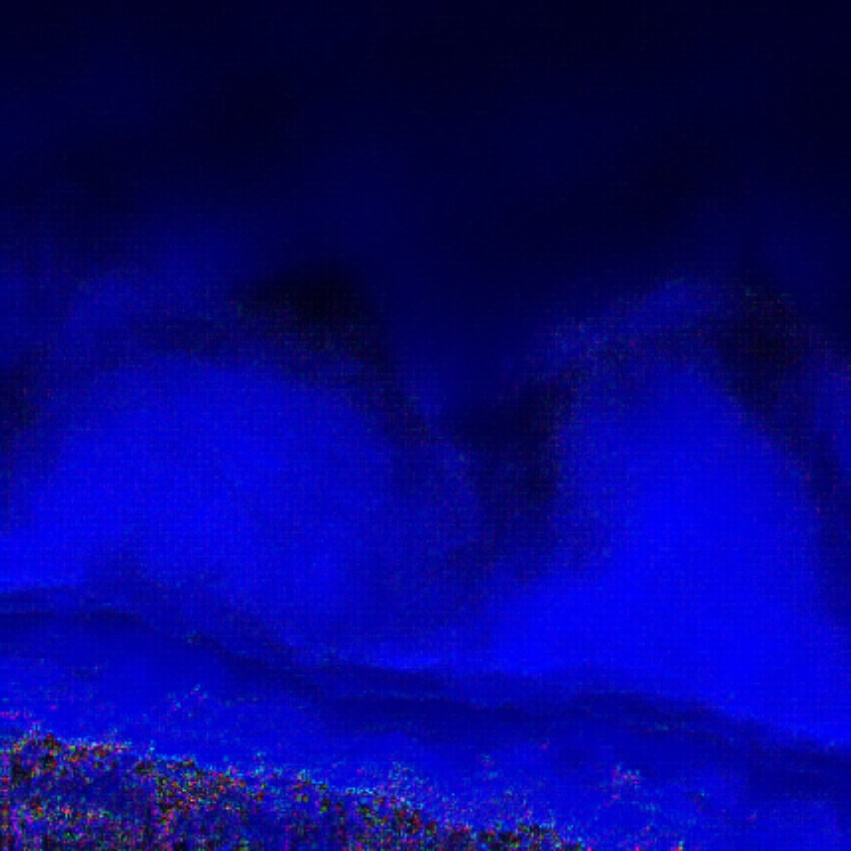rip_current: (268, 282, 629, 635)
